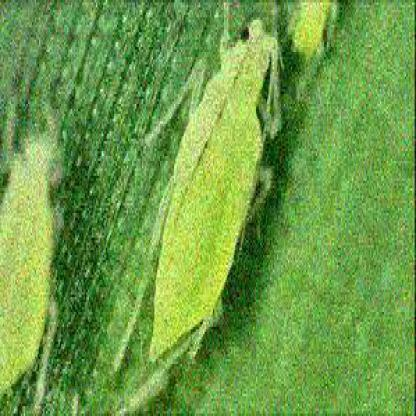schizaphis graminum: (112, 20, 272, 369)
